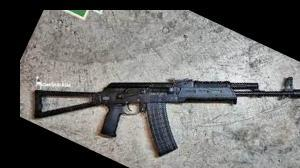larga: (33, 76, 300, 157)
